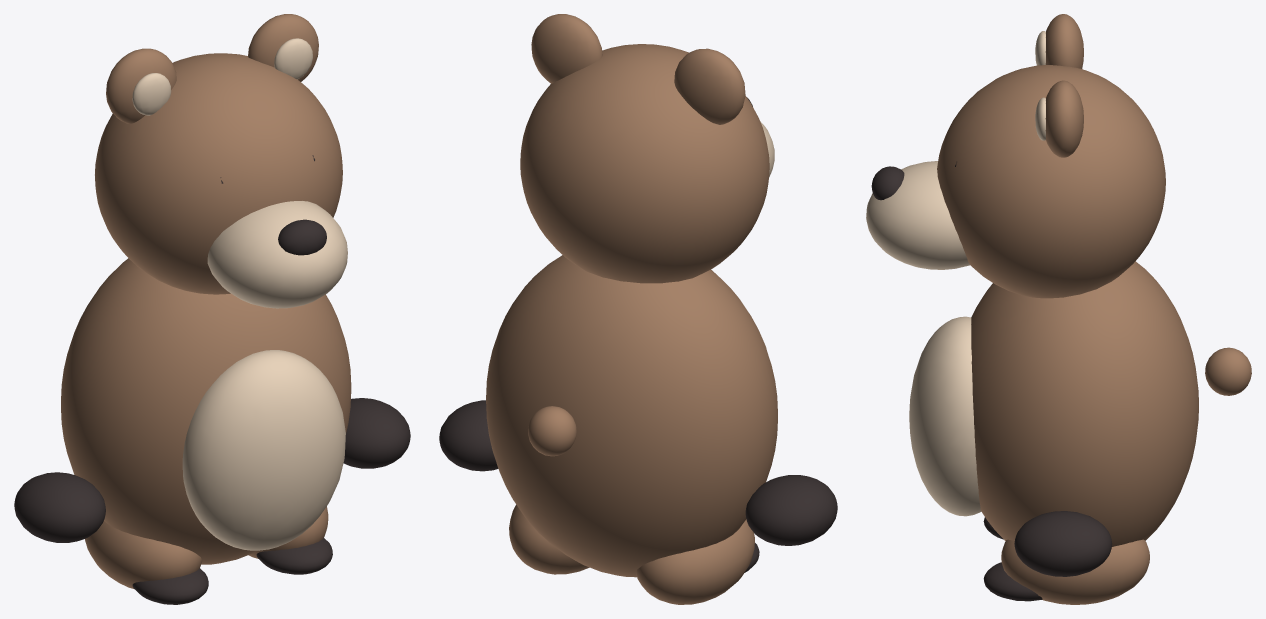
The model's file is bjorn.glb.
3 views of the same model, side by side, from view 1: azimuth 30°, elevation 25°; view 2: azimuth 150°, elevation 25°; view 3: azimuth 270°, elevation 25° (orthographic). The views are drawn at different scales.
Visible parts, largest first — view 1: Bjorn; view 2: Bjorn; view 3: Bjorn.
Part boxes in pixels (x1,y1,x2,y2): Bjorn: [14, 14, 410, 604]; Bjorn: [439, 14, 837, 604]; Bjorn: [866, 14, 1251, 604].
Bounding box in the file's own units: 1.72 × 2.33 × 1.57.
